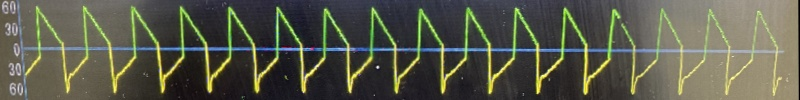peepi: (19, 0, 791, 100)
